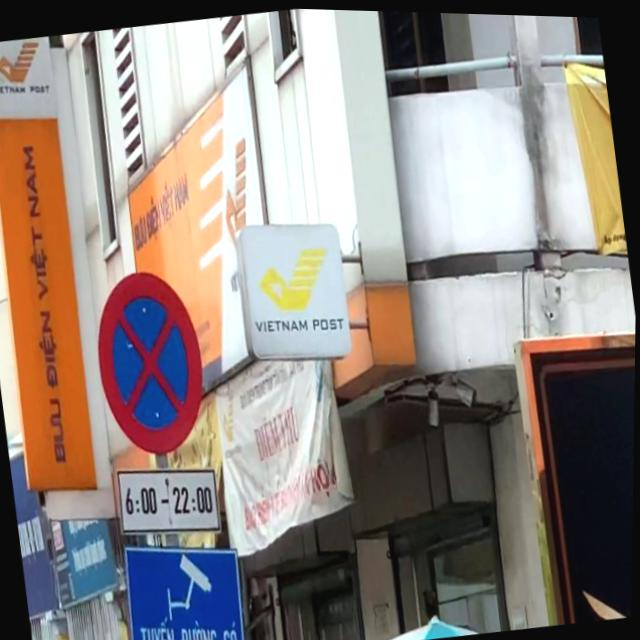Cam dung xe va do xe: (84, 254, 220, 465)
